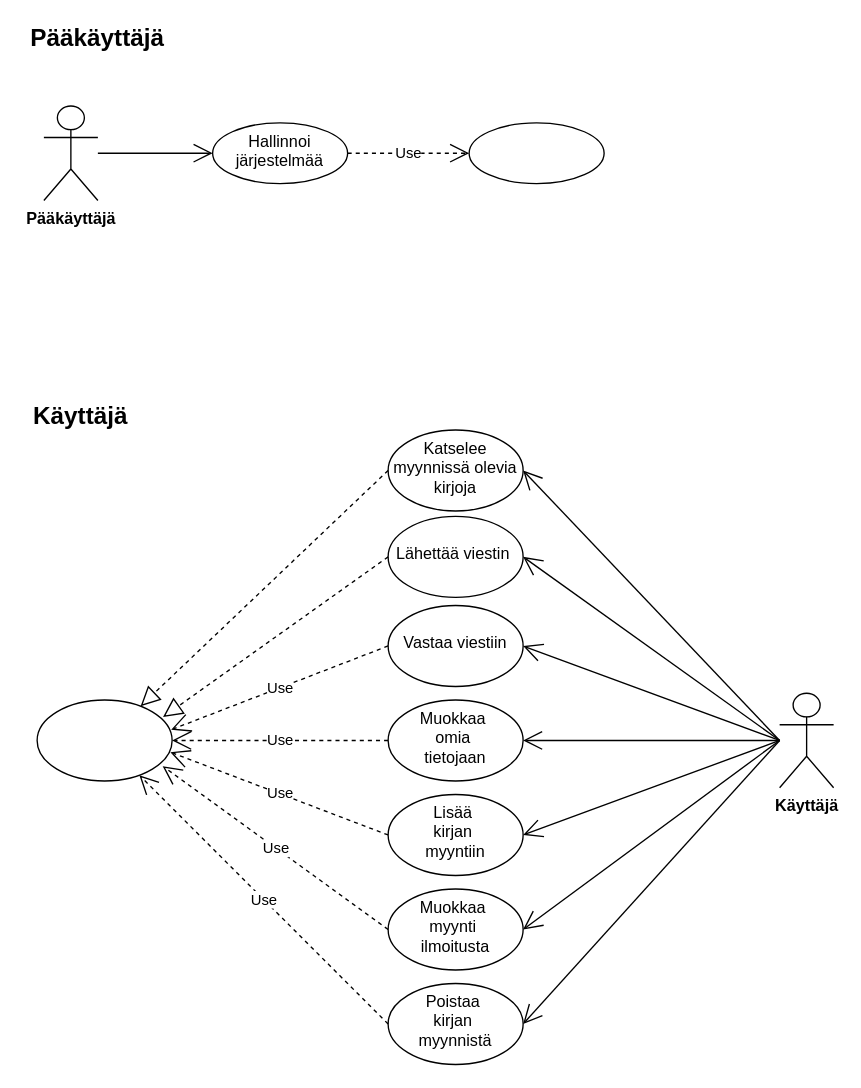
This 861x1088 diagram has some shape labels left out. The box of each missing label's shape, as (x1, y1, x2, y2) in pixels:
Kirjautuminen: (36, 699, 172, 781)
Kirjautuminen admin: (468, 122, 604, 184)
